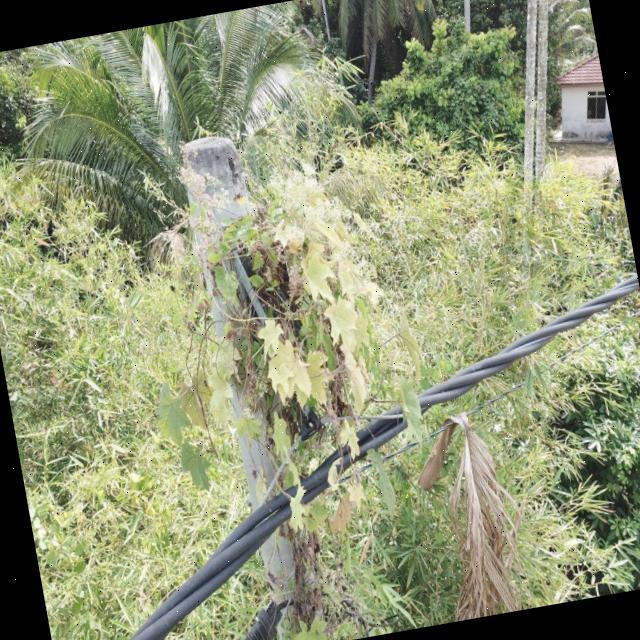critical vegetation: (136, 130, 419, 477)
